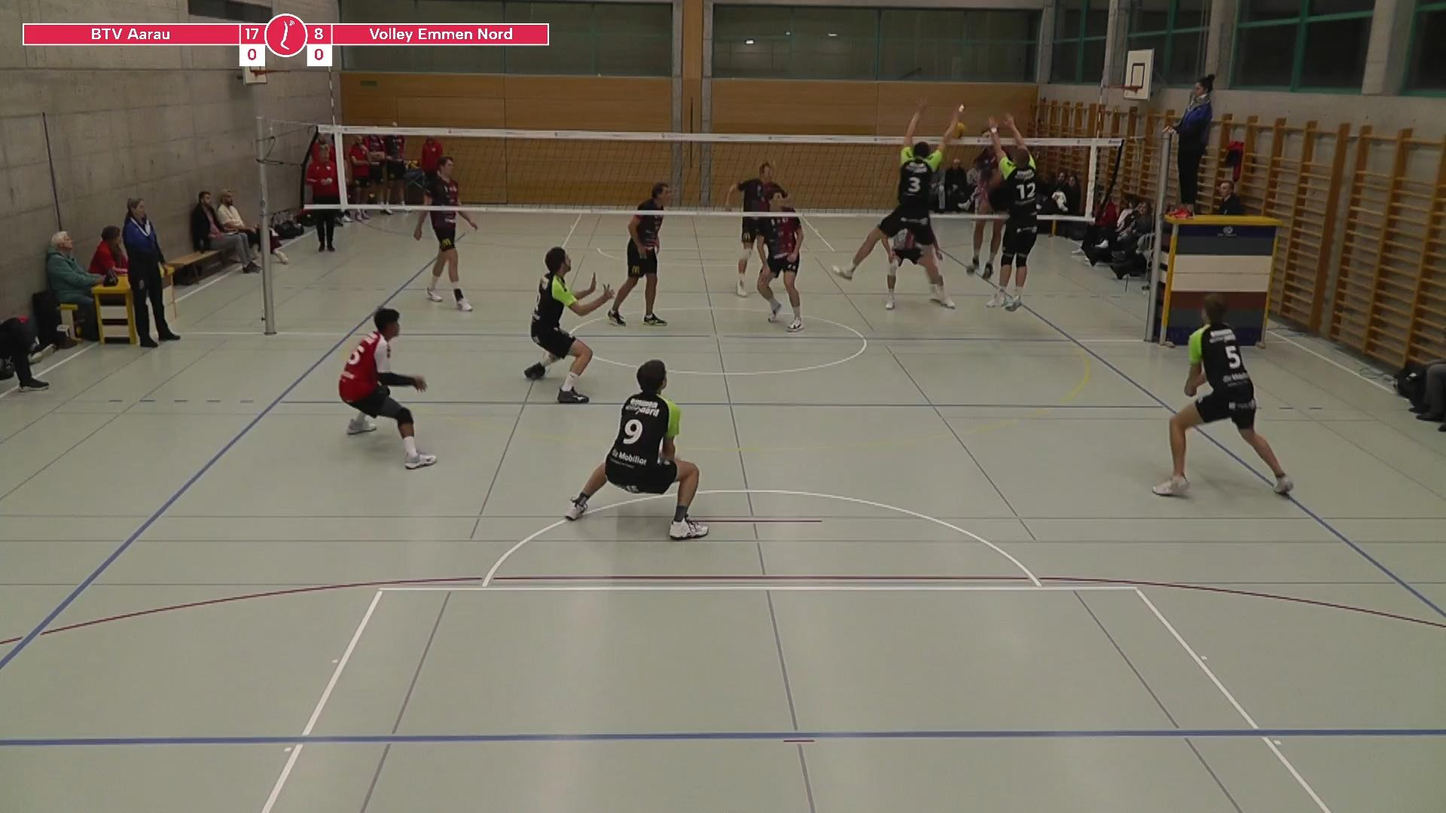Block: (823, 95, 977, 315), (970, 109, 1056, 320)
Player: (1154, 294, 1292, 495), (565, 361, 708, 540), (339, 308, 435, 468), (524, 247, 612, 403), (607, 184, 672, 326), (725, 162, 773, 297), (414, 209, 477, 311), (757, 217, 803, 331), (885, 230, 925, 309)
ball: (944, 115, 970, 142)
